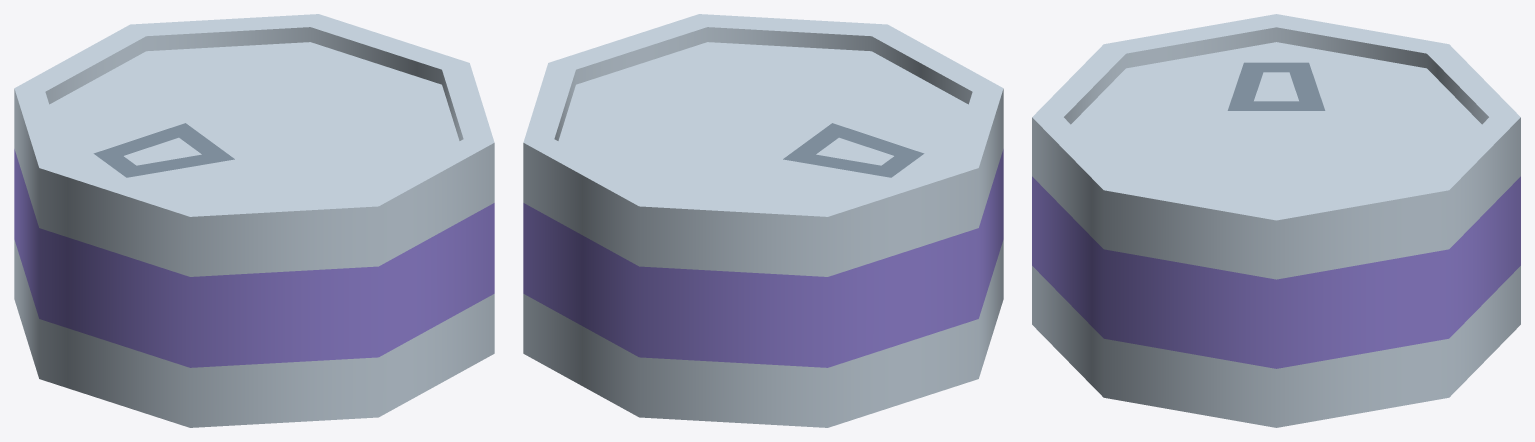
Rendered from canSmall.GLB.
3 renders of one model, left to right at view 1: azimuth 30°, elevation 25°; view 2: azimuth 150°, elevation 25°; view 3: azimuth 270°, elevation 25°, orthographic.
Visible parts, largest first — view 1: canSmall; view 2: canSmall; view 3: canSmall.
Part boxes in pixels (box(x1,y1,x2,y2)): canSmall: box(14, 14, 494, 427); canSmall: box(523, 14, 1003, 427); canSmall: box(1032, 14, 1520, 427).
Size of the model in its own units: 0.3 by 0.1405 by 0.3.
